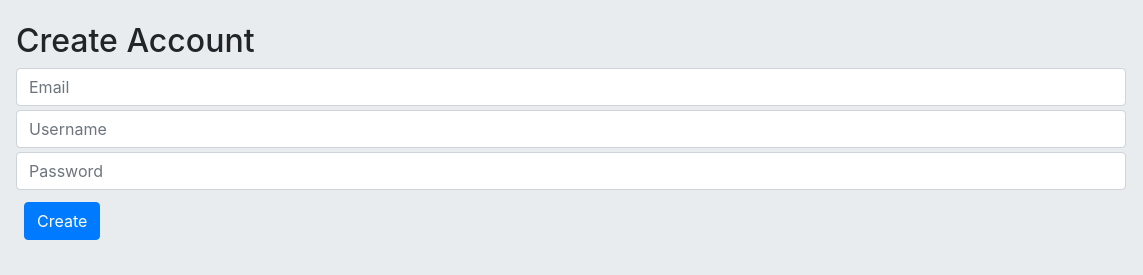
Test: Create Account › error message › should display error message if failed to create
Click the button with test id "create__button".
click(62, 221)  # box [24,202,100,240]
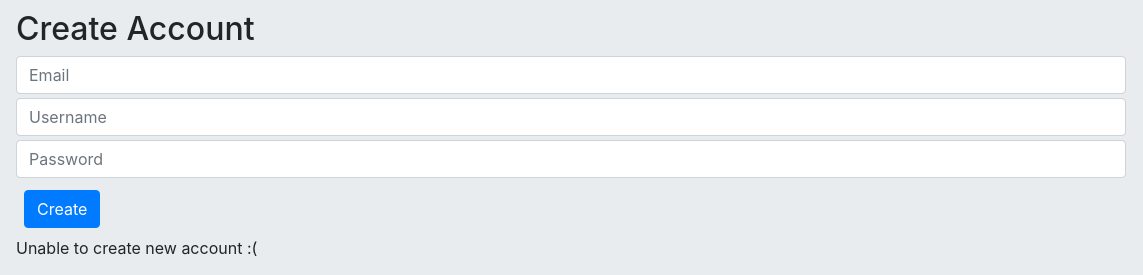
Now the text "Unable to create new account :(" is shown, box [16,238,257,258]
